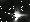person: (9, 7, 26, 22)
